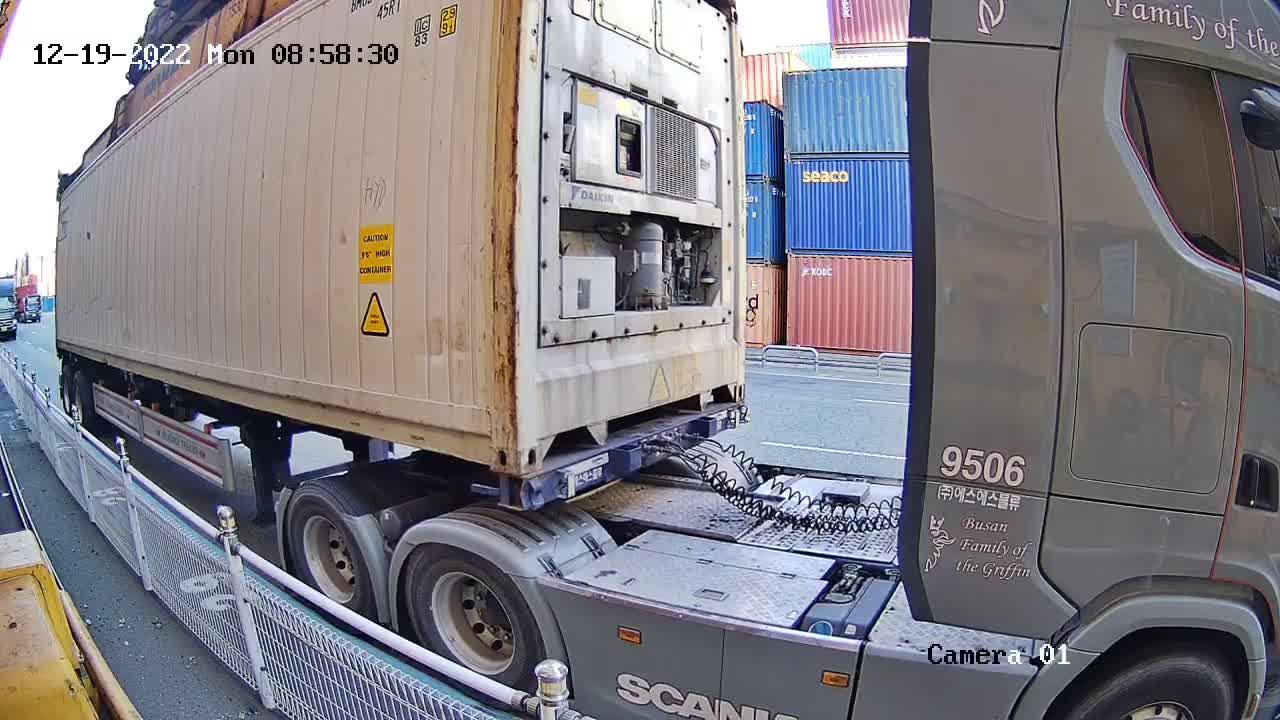Chassis: (499, 401, 747, 509)
Cone: (492, 473, 523, 510)
Hole_L: (518, 411, 567, 476)
Hole_R: (464, 410, 518, 478), (720, 370, 745, 404)
Tire: (408, 547, 537, 688), (288, 486, 369, 610)
